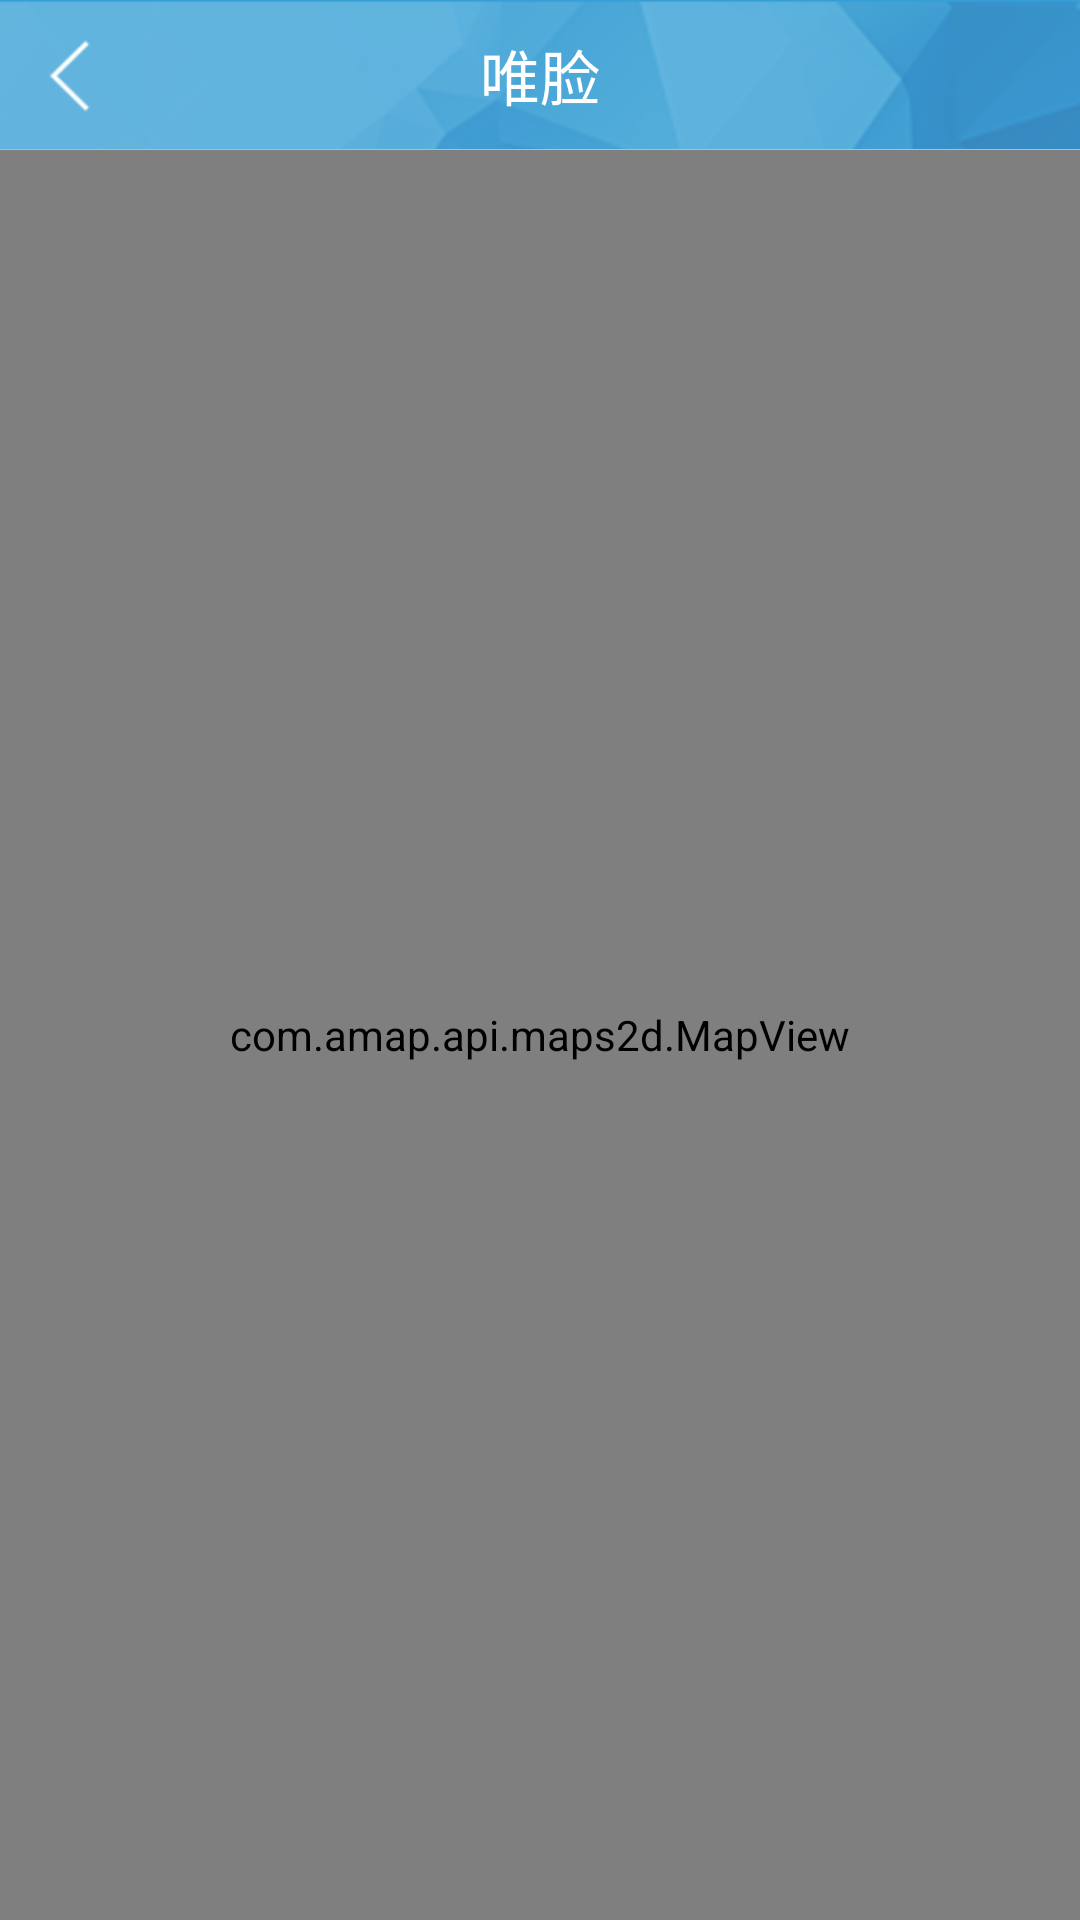

Icon bounding boxes for this 1080w x 1920h phone screenshot, format (x1, y1, x2, y2):
back: (50, 41, 89, 111)
